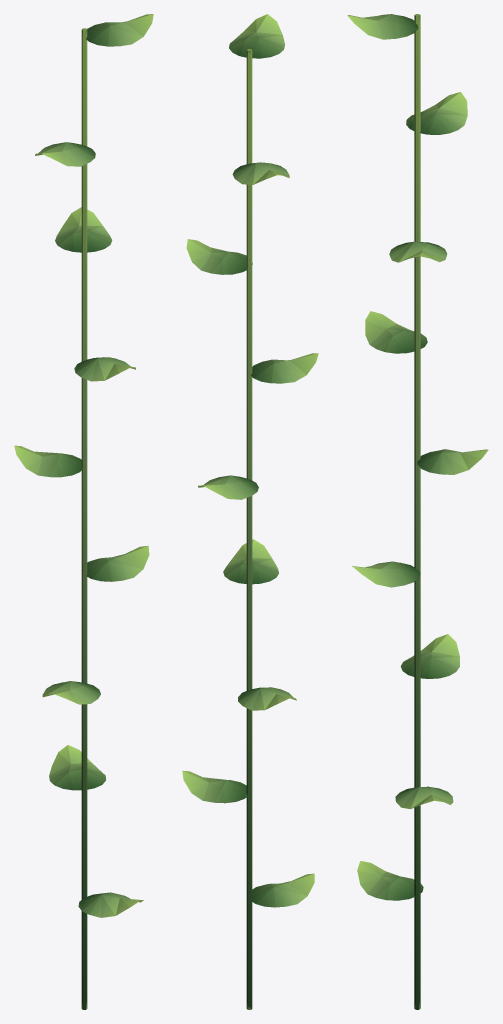
File: SM_Algae_6.fbx
The picture shows the model from 3 angles, left to right: view 1: azimuth 90°, elevation 25°; view 2: azimuth 150°, elevation 25°; view 3: azimuth 270°, elevation 25°; orthographic projection. The views are drawn at different scales.
Visible parts, largest first — view 1: Algae_6; view 2: Algae_6; view 3: Algae_6.
Boxes of the visible parts, x1,y1,x2,y2 form: Algae_6: [14, 14, 153, 1009]; Algae_6: [182, 14, 318, 1009]; Algae_6: [347, 14, 488, 1009].
Bounding box in the file's own units: 39.52 × 314 × 40.21.
